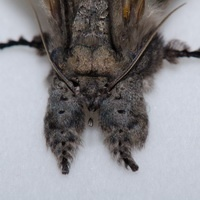insect: (0, 46, 199, 199), (161, 1, 199, 49)
